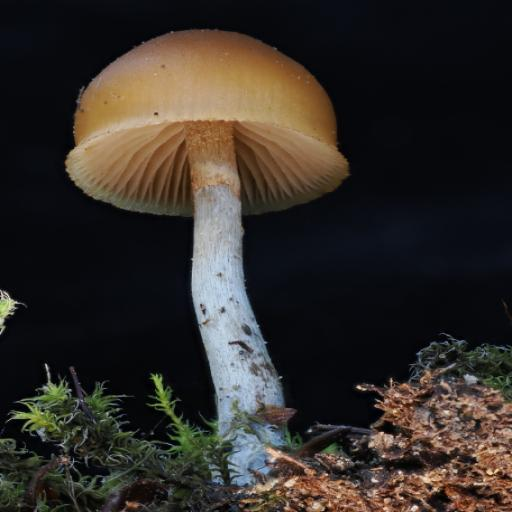mushroom: (56, 21, 359, 481)
